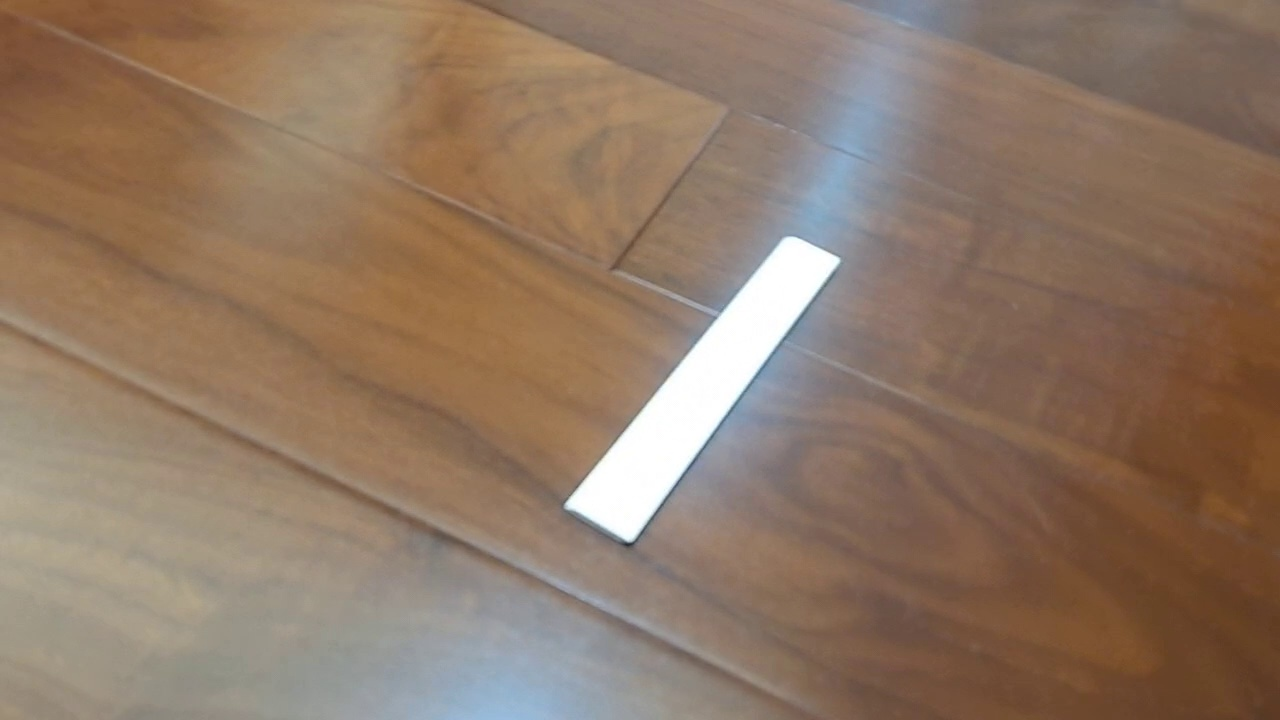ruler: (563, 234, 843, 547)
